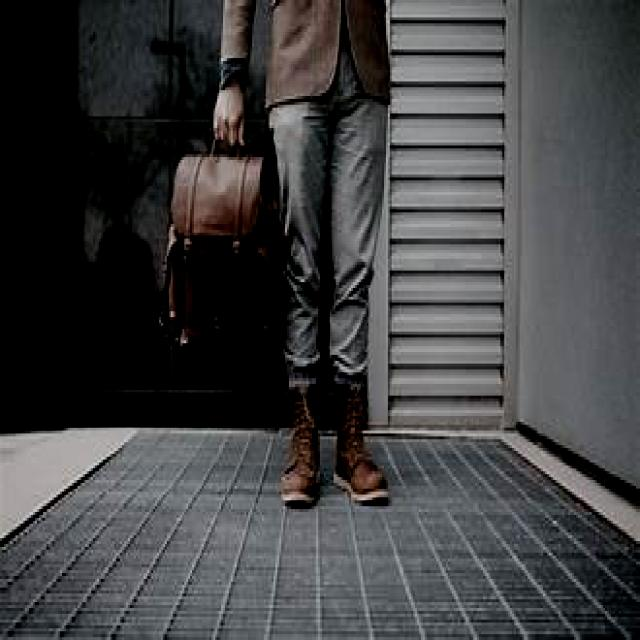backpack: (156, 132, 290, 356)
